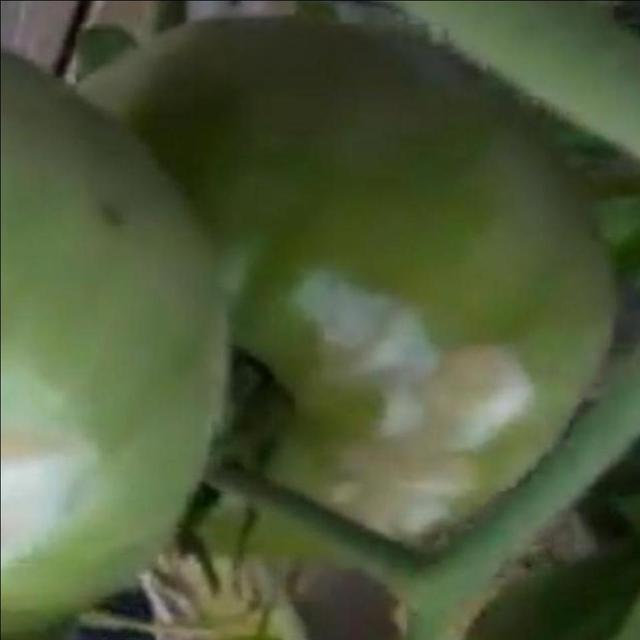Sunscald Fruit: (35, 173, 268, 307)
